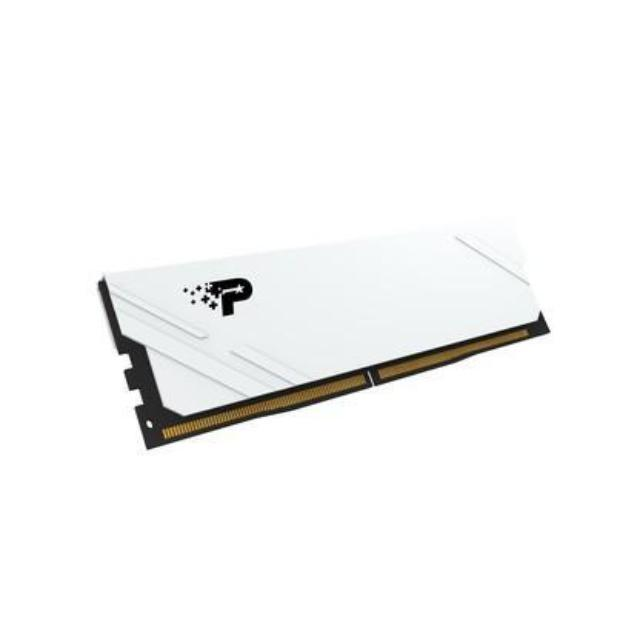RAM: (95, 223, 556, 455)
